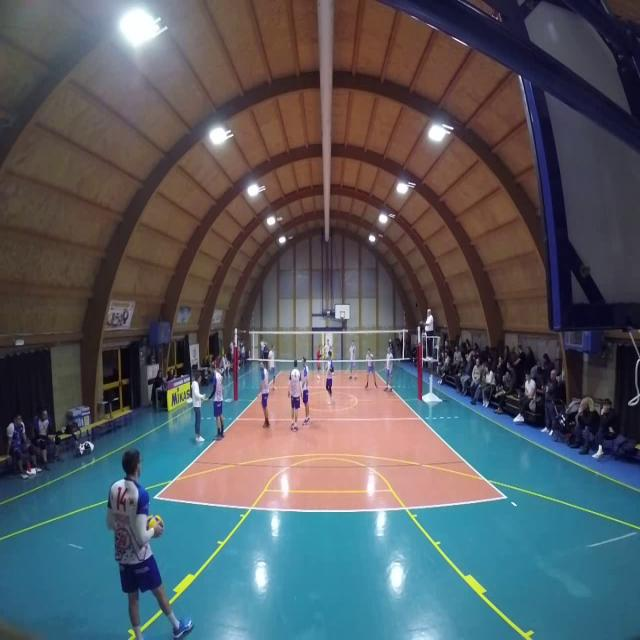serve: (106, 443, 192, 640), (143, 510, 165, 541)
